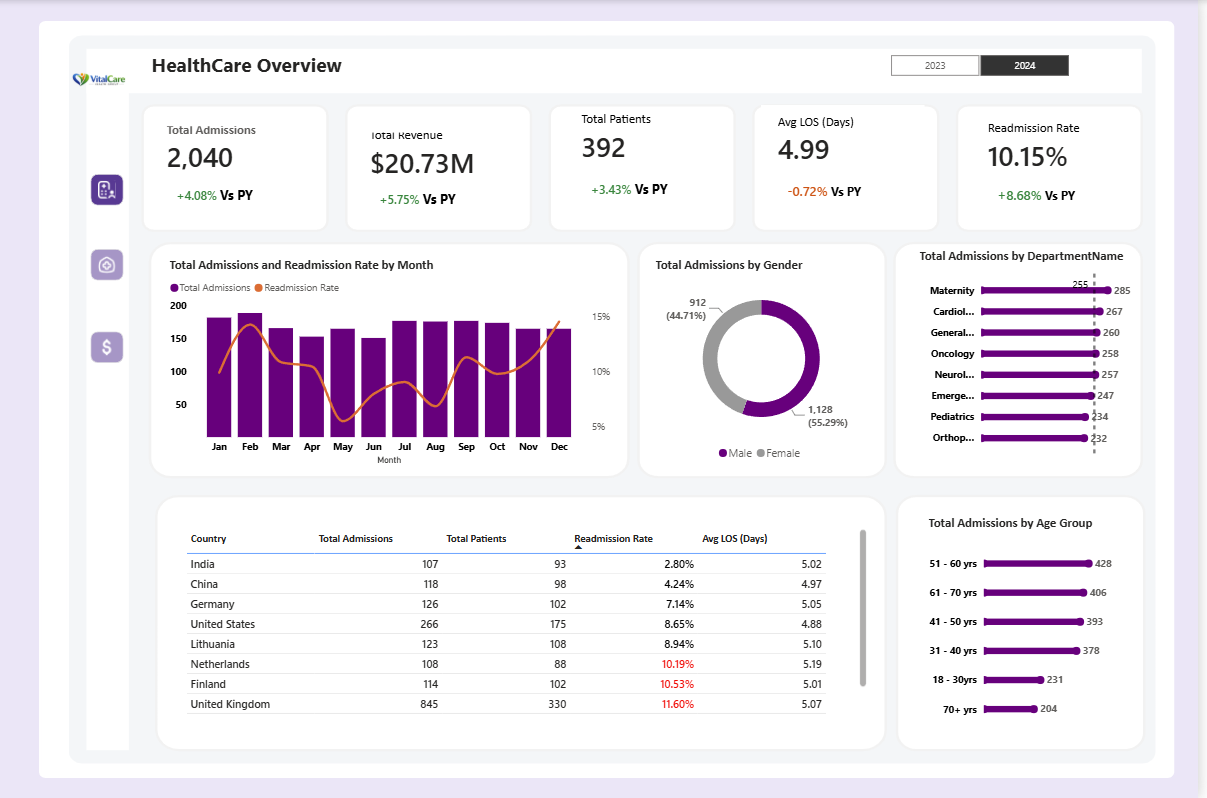

The dashboard page shown, as its layout file describes it:
{"tool":"powerbi","page":{"name":"Overview","canvas":[1500,1000],"ordinal":0},"visuals":[{"type":"actionButton","box":[114.5,217.8,41.3,39.4],"z":0},{"type":"actionButton","box":[114.5,311.6,41.3,39.4],"z":1000},{"type":"actionButton","box":[114.5,414.9,41.3,39.4],"z":2000},{"type":"image","box":[83.7,62.8,83.7,80],"z":3000},{"type":"cardVisual","fields":{"Data":["Measures_Table.Total Admissions"]},"box":[185.9,142.7,214,138.9],"z":4000},{"type":"slicer","fields":{"Values":["Dim Date.Year"]},"box":[1090.8,62,272.2,33.8],"z":5000},{"type":"cardVisual","fields":{"Data":["Measures_Table.Total Revenue"]},"box":[443.1,153.9,200.9,127.7],"z":6000},{"type":"cardVisual","fields":{"Data":["Measures_Table.Total Patients"]},"box":[707.8,127.7,184,153.9],"z":7000},{"type":"cardVisual","fields":{"Data":["Measures_Table.Avg LOS (Days)"]},"box":[953.7,131.4,204.6,150.2],"z":8000},{"type":"cardVisual","fields":{"Data":["Measures_Table.Readmission Rate"]},"box":[1216.5,142.7,176.5,138.9],"z":9000},{"type":"lineStackedColumnComboChart","fields":{"Category":["Dim Date.Month"],"Y":["Measures_Table.Total Admissions"],"Y2":["Measures_Table.Readmission Rate"]},"box":[208.4,321,563.2,264.7],"z":10000},{"type":"donutChart","fields":{"Category":["Dim Patient.Gender"],"Y":["Measures_Table.Total Admissions"]},"box":[816.7,321,274.1,264.7],"z":11000},{"type":"clusteredBarChart","fields":{"Category":["Dim Department.DepartmentName"],"Y":["Measures_Table.Total Admissions"]},"box":[1147.1,309.8,274.1,264.7],"z":12000},{"type":"clusteredBarChart","fields":{"Category":["Dim Patient.Age Group"],"Y":["Measures_Table.Total Admissions"]},"box":[1158.3,643.9,262.8,277.9],"z":13000},{"type":"tableEx","fields":{"Values":["Dim Hospital.Country","Measures_Table.Total Admissions","Measures_Table.Total Patients","Measures_Table.Readmission Rate","Measures_Table.Avg LOS (Days)"]},"box":[229,657.1,861.7,247.8],"z":14000},{"type":"textbox","box":[185.9,48.8,281.6,54.4],"z":15000}]}

Visuals, with their boxes in screenshot pixels (x1, y1, x2, y2), scaled from the page's 1500x1000 canvas onto the 1207x798 screenshot:
actionButton: 92, 174, 125, 205
actionButton: 92, 249, 125, 280
actionButton: 92, 331, 125, 363
image: 67, 50, 135, 114
cardVisual - Measures_Table.Total Admissions: 150, 114, 322, 225
slicer - Dim Date.Year: 878, 49, 1097, 76
cardVisual - Measures_Table.Total Revenue: 357, 123, 518, 225
cardVisual - Measures_Table.Total Patients: 570, 102, 718, 225
cardVisual - Measures_Table.Avg LOS (Days): 767, 105, 932, 225
cardVisual - Measures_Table.Readmission Rate: 979, 114, 1121, 225
lineStackedColumnComboChart - Dim Date.Month x Measures_Table.Total Admissions: 168, 256, 621, 467
donutChart - Dim Patient.Gender x Measures_Table.Total Admissions: 657, 256, 878, 467
clusteredBarChart - Dim Department.DepartmentName x Measures_Table.Total Admissions: 923, 247, 1144, 458
clusteredBarChart - Dim Patient.Age Group x Measures_Table.Total Admissions: 932, 514, 1144, 736
tableEx - Dim Hospital.Country x Measures_Table.Total Admissions: 184, 524, 878, 722
textbox: 150, 39, 376, 82
